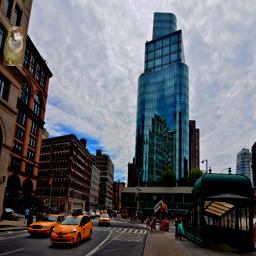Sparrow: (3, 26, 23, 66)
